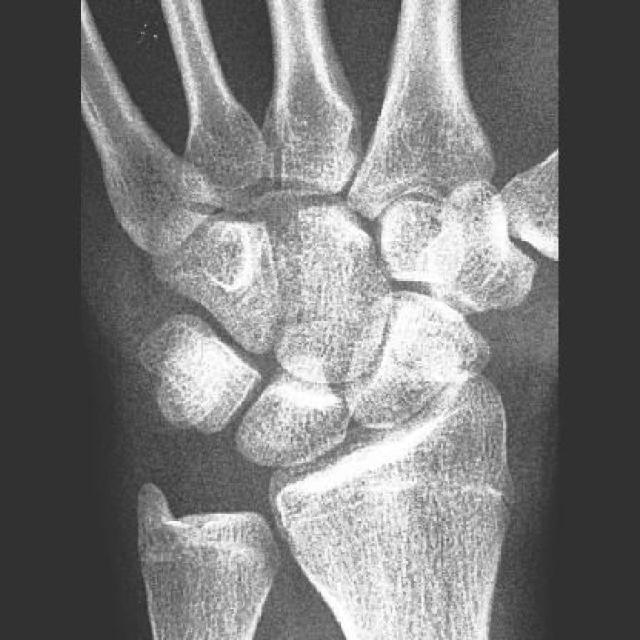Fracture: (249, 196, 383, 336), (382, 325, 484, 394)
